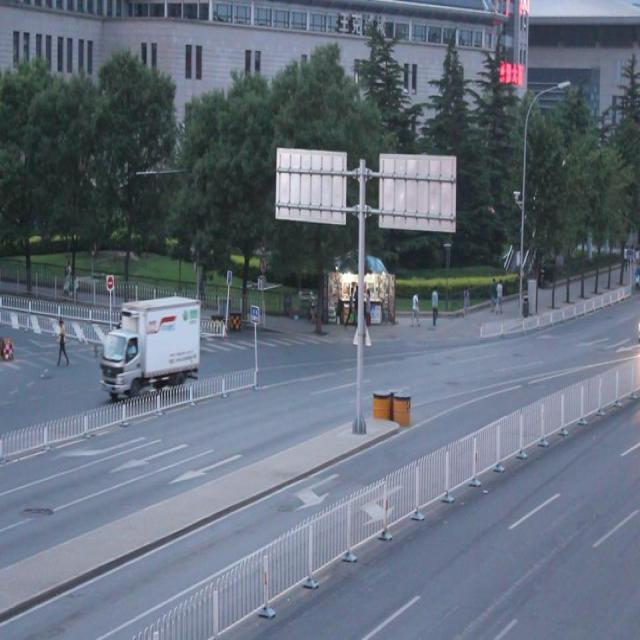bus: (101, 297, 202, 394)
car: (139, 302, 201, 349)
